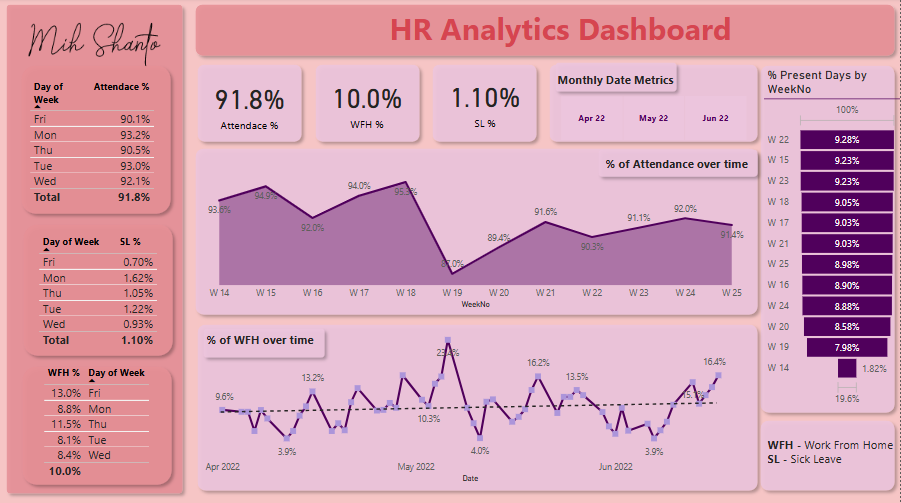

The page's visual inventory and layout, read from the dashboard file:
{"tool":"powerbi","page":{"name":"Presence Insights","canvas":[1280,720],"ordinal":0},"visuals":[{"type":"shape","title":"% of Attendance over time","box":[1072.9,86.1,207.5,618.4],"z":0},{"type":"shape","title":"% of Attendance over time","box":[775.1,84.7,312,127.1],"z":1000},{"type":"slicer","title":"3 Months","fields":{"Values":["Final Data.MMM YY"]},"box":[775.1,131.3,310.6,76.2],"z":2000},{"type":"shape","title":"% of Attendance over time","box":[609.9,84.7,165.2,127.1],"z":3000},{"type":"shape","title":"% of Attendance over time","box":[444,84.7,165.2,127.1],"z":4000},{"type":"shape","title":"% of Attendance over time","box":[278.1,84.7,165.2,127.1],"z":5000},{"type":"shape","box":[275.3,0,1005.2,90.4],"z":6000},{"type":"shape","box":[8.5,0,266.8,708.7],"z":7000},{"type":"shape","title":"% of Attendance over time","box":[274.9,203.3,811.8,252.7],"z":8000},{"type":"areaChart","title":"% of Attendance over time","fields":{"Category":["Final Data.WeekNo","Final Data.Date"],"Y":["Measures (2).Attendace %"]},"box":[286.2,234.4,786.4,208.9],"z":9000},{"type":"image","box":[43.8,21.2,196.2,90.4],"z":10000},{"type":"textbox","box":[477.2,8.5,645.2,77.6],"z":11000},{"type":"shape","box":[29.6,85.7,228.7,227.3],"z":12000},{"type":"tableEx","fields":{"Values":["Final Data.day of week","Measures (2).Attendace %"]},"box":[45.2,111.5,196.2,201.9],"z":13000},{"type":"shape","box":[32.5,310.4,228.7,203.3],"z":14000},{"type":"tableEx","fields":{"Values":["Final Data.day of week","Measures (2).SL %"]},"box":[57.2,330.4,192,168],"z":15000},{"type":"shape","box":[31.1,511.1,228.7,184.9],"z":16000},{"type":"tableEx","fields":{"Values":["Measures (2).WFH %","Final Data.Day of Week"]},"box":[64.9,515.3,183.5,180.7],"z":17000},{"type":"shape","title":"% of Attendance over time","box":[844.2,204.7,242.8,56.5],"z":18000},{"type":"textbox","box":[857.9,217.4,351.5,64.9],"z":19000},{"type":"shape","title":"% of Attendance over time","box":[278.1,451.8,808.9,252.7],"z":20000},{"type":"areaChart","fields":{"Category":["Final Data.MMM YY","Final Data.Date"],"Y":["Measures (2).WFH %"]},"box":[291.8,457.4,759.5,231.5],"z":21000},{"type":"shape","title":"% of Attendance over time","box":[286.6,457.4,189.2,59.3],"z":22000},{"type":"textbox","box":[295.1,465.9,175.1,64.9],"z":23000},{"type":"card","fields":{"Values":["Measures (2).Attendace %"]},"box":[299.3,100.2,122.8,97.4],"z":24000},{"type":"card","fields":{"Values":["Measures (2).WFH %"]},"box":[470.8,98.8,112.9,97.4],"z":25000},{"type":"card","fields":{"Values":["Measures (2).SL %"]},"box":[632.5,98.8,121.4,96],"z":26000},{"type":"funnel","fields":{"Category":["Final Data.Value"],"Y":["Measure's.Attendace %"]},"box":[1087.1,98.8,183.5,590.1],"z":27000},{"type":"shape","title":"% of Attendance over time","box":[783.5,81.9,189.2,59.3],"z":29000},{"type":"textbox","box":[790.6,98.8,175.1,64.9],"z":29500}]}

Visuals, with their boxes in screenshot pixels (x1, y1, x2, y2), scaled from the page's 1280x720 canvas onto the 901x503 screenshot:
"% of Attendance over time" shape: x1=755, y1=60, x2=900, y2=492
"% of Attendance over time" shape: x1=546, y1=59, x2=765, y2=148
"3 Months" slicer: x1=546, y1=92, x2=764, y2=145
"% of Attendance over time" shape: x1=429, y1=59, x2=546, y2=148
"% of Attendance over time" shape: x1=313, y1=59, x2=429, y2=148
"% of Attendance over time" shape: x1=196, y1=59, x2=312, y2=148
shape: x1=194, y1=0, x2=900, y2=63
shape: x1=6, y1=0, x2=194, y2=495
"% of Attendance over time" shape: x1=194, y1=142, x2=765, y2=319
"% of Attendance over time" areaChart: x1=201, y1=164, x2=755, y2=310
image: x1=31, y1=15, x2=169, y2=78
textbox: x1=336, y1=6, x2=790, y2=60
shape: x1=21, y1=60, x2=182, y2=219
tableEx - Final Data.day of week x Measures (2).Attendace %: x1=32, y1=78, x2=170, y2=219
shape: x1=23, y1=217, x2=184, y2=359
tableEx - Final Data.day of week x Measures (2).SL %: x1=40, y1=231, x2=175, y2=348
shape: x1=22, y1=357, x2=183, y2=486
tableEx - Measures (2).WFH % x Final Data.Day of Week: x1=46, y1=360, x2=175, y2=486
"% of Attendance over time" shape: x1=594, y1=143, x2=765, y2=182
textbox: x1=604, y1=152, x2=851, y2=197
"% of Attendance over time" shape: x1=196, y1=316, x2=765, y2=492
areaChart - Final Data.MMM YY x Final Data.Date: x1=205, y1=320, x2=740, y2=481
"% of Attendance over time" shape: x1=202, y1=320, x2=335, y2=361
textbox: x1=208, y1=325, x2=331, y2=371
card - Measures (2).Attendace %: x1=211, y1=70, x2=297, y2=138
card - Measures (2).WFH %: x1=331, y1=69, x2=411, y2=137
card - Measures (2).SL %: x1=445, y1=69, x2=531, y2=136
funnel - Final Data.Value x Measure's.Attendace %: x1=765, y1=69, x2=894, y2=481
"% of Attendance over time" shape: x1=552, y1=57, x2=685, y2=99
textbox: x1=557, y1=69, x2=680, y2=114
